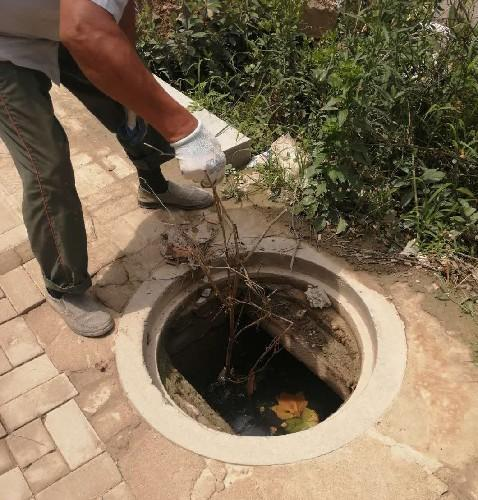lose: (116, 238, 406, 463)
